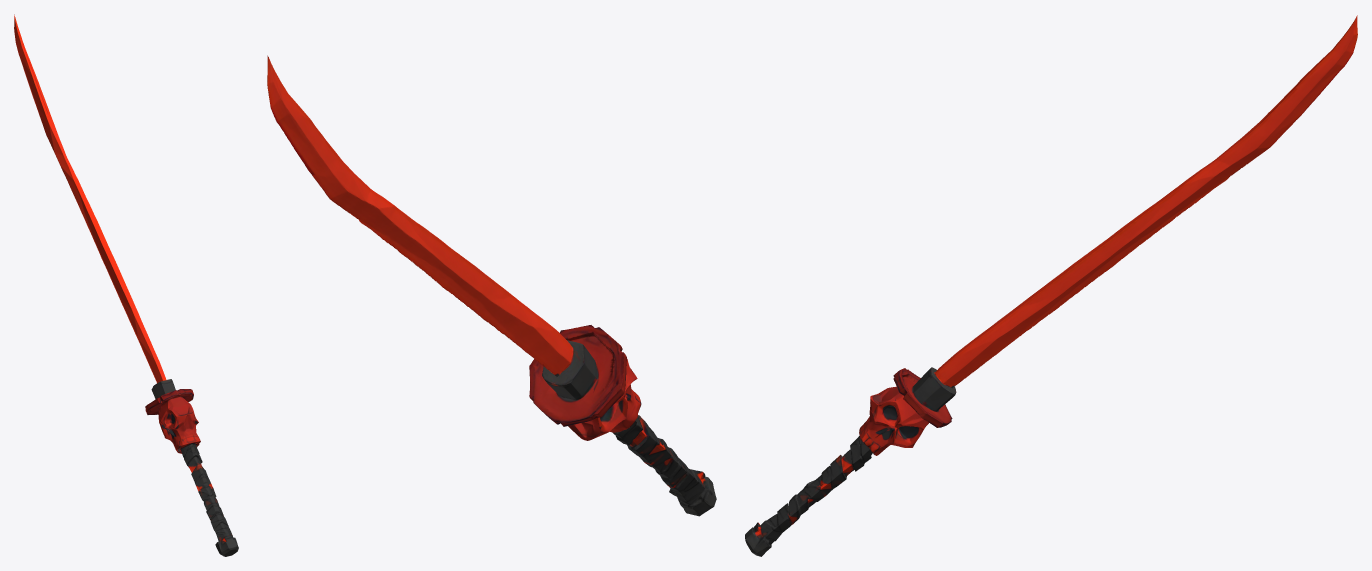
File: katana.fbx
The picture shows the model from 3 angles, left to right: view 1: azimuth 30°, elevation 25°; view 2: azimuth 150°, elevation 25°; view 3: azimuth 270°, elevation 25°; orthographic projection. The views are drawn at different scales.
Visible parts, largest first — view 1: tripo_node_390dad2c; view 2: tripo_node_390dad2c; view 3: tripo_node_390dad2c.
Boxes of the visible parts, x1=… form: tripo_node_390dad2c: x1=14, y1=14, x2=238, y2=556; tripo_node_390dad2c: x1=267, y1=55, x2=716, y2=516; tripo_node_390dad2c: x1=745, y1=15, x2=1357, y2=556.
Bounding box in the file's own units: 0.1211 × 0.9733 × 1.
Materials: 1 (1 with a texture image).
